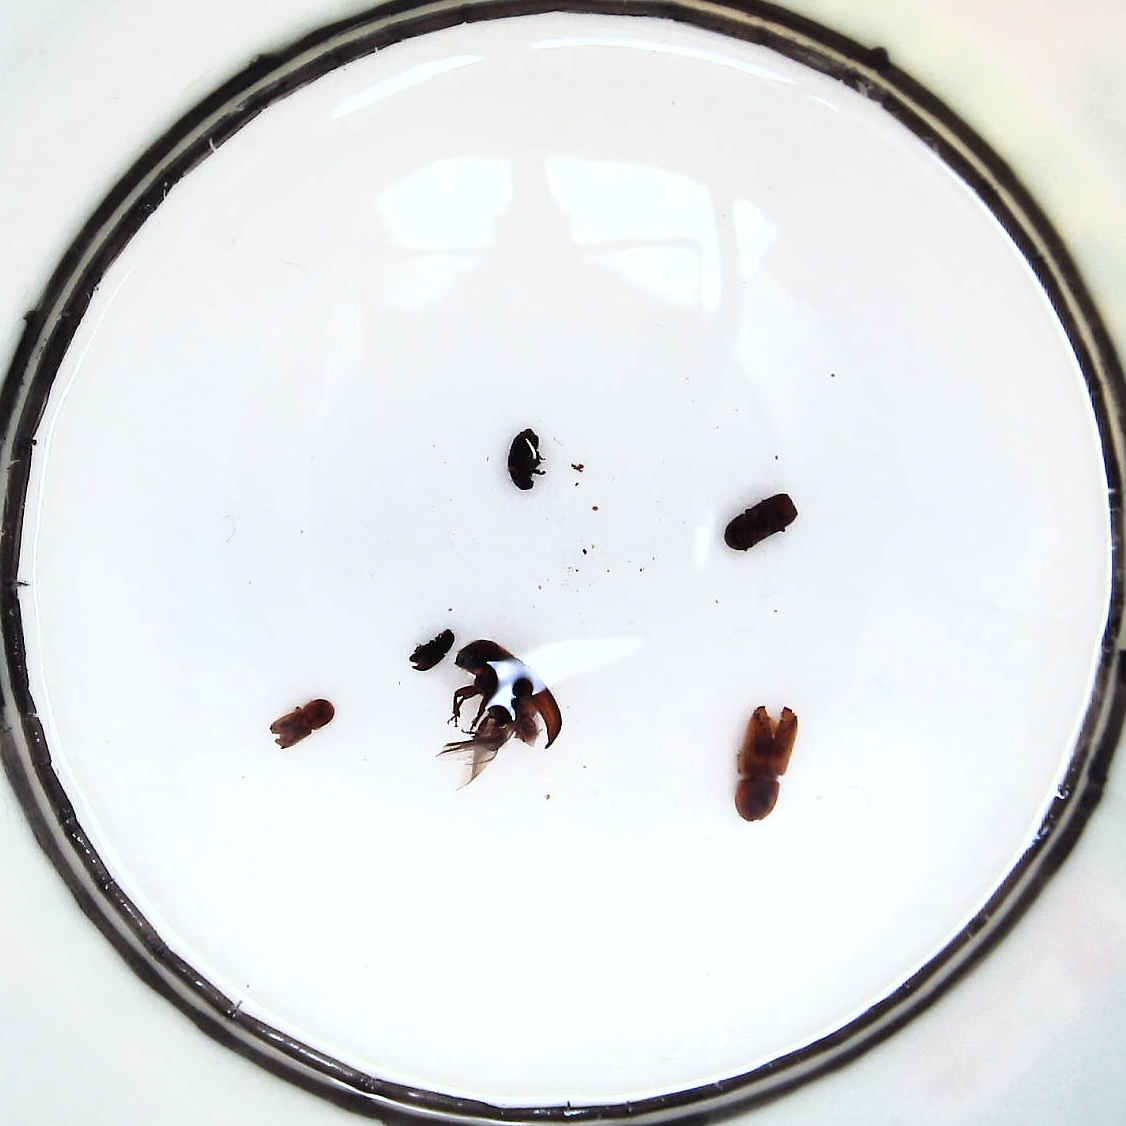Leconte: (454, 640, 562, 748), (733, 705, 798, 821)
acuminatus: (408, 629, 456, 670)
armandi: (270, 699, 332, 748)
coleoptera: (508, 429, 540, 490)
linnaeus: (724, 494, 797, 551)
